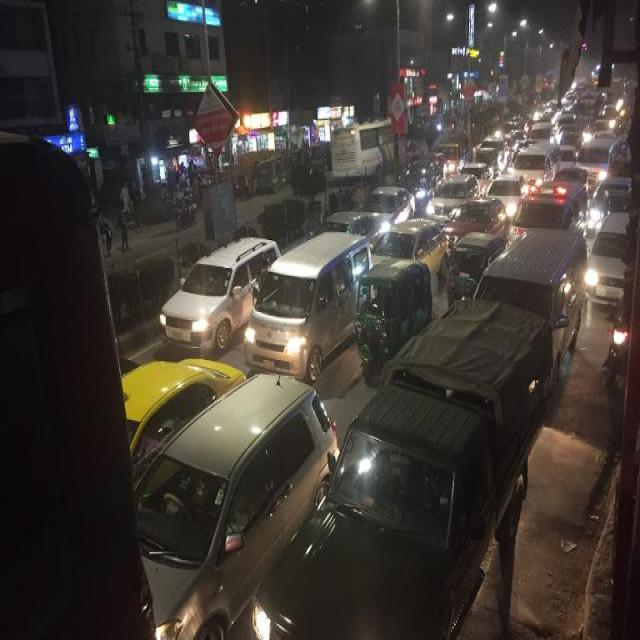bike: (603, 308, 634, 387), (173, 198, 197, 231)
vehicle: (252, 302, 552, 636), (1, 132, 157, 638), (138, 372, 338, 638), (244, 231, 373, 375), (475, 227, 588, 356), (157, 238, 279, 351), (120, 356, 245, 454), (354, 258, 434, 374), (507, 177, 587, 241), (373, 216, 448, 274), (587, 213, 632, 305), (329, 118, 395, 178), (443, 196, 509, 243), (425, 172, 480, 220), (313, 209, 377, 244), (588, 176, 634, 223), (515, 142, 562, 183), (576, 137, 622, 177), (367, 184, 416, 218), (402, 159, 442, 199), (436, 142, 473, 167), (461, 162, 494, 190), (256, 160, 283, 192), (310, 144, 327, 168), (291, 149, 306, 173)
